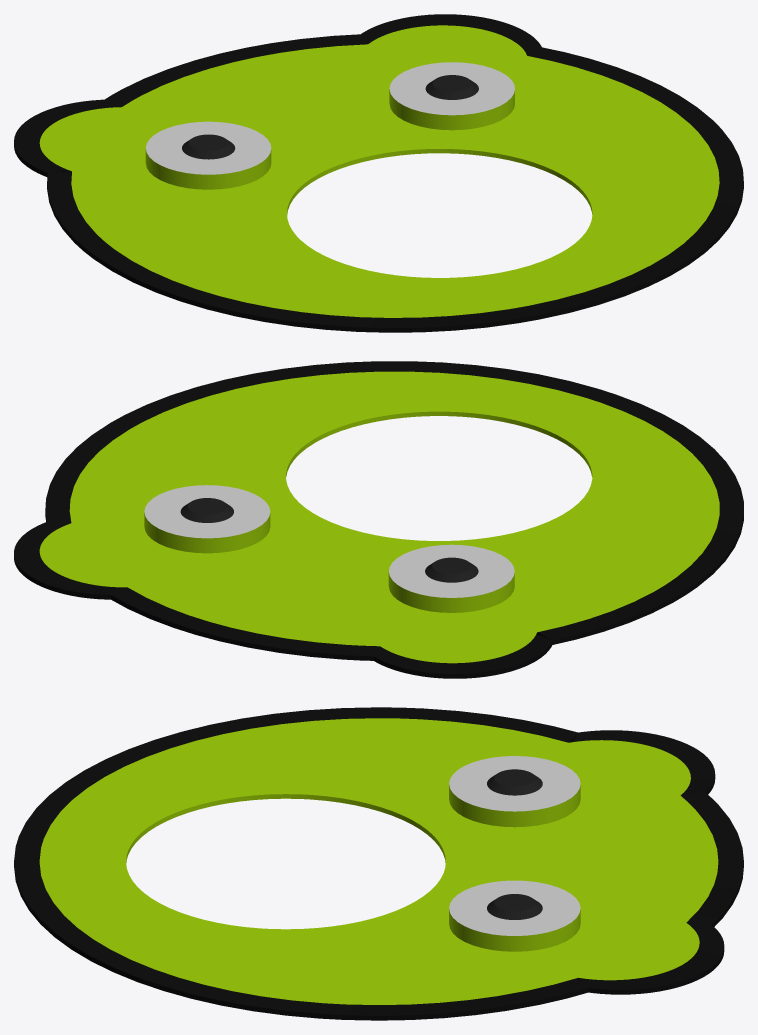
The model's file is Skin.fbx.
3 views of the same model, one above another, from view 1: azimuth 30°, elevation 25°; view 2: azimuth 150°, elevation 25°; view 3: azimuth 270°, elevation 25° (orthographic). The views are drawn at different scales.
Visible parts, largest first — view 1: Cylinder_1; view 2: Cylinder_1; view 3: Cylinder_1.
Part boxes in pixels (bbox=[...]): Cylinder_1: bbox=[14, 14, 743, 332]; Cylinder_1: bbox=[14, 361, 743, 678]; Cylinder_1: bbox=[14, 707, 743, 1020].
Bounding box in the file's own units: 430 × 16.95 × 430.
